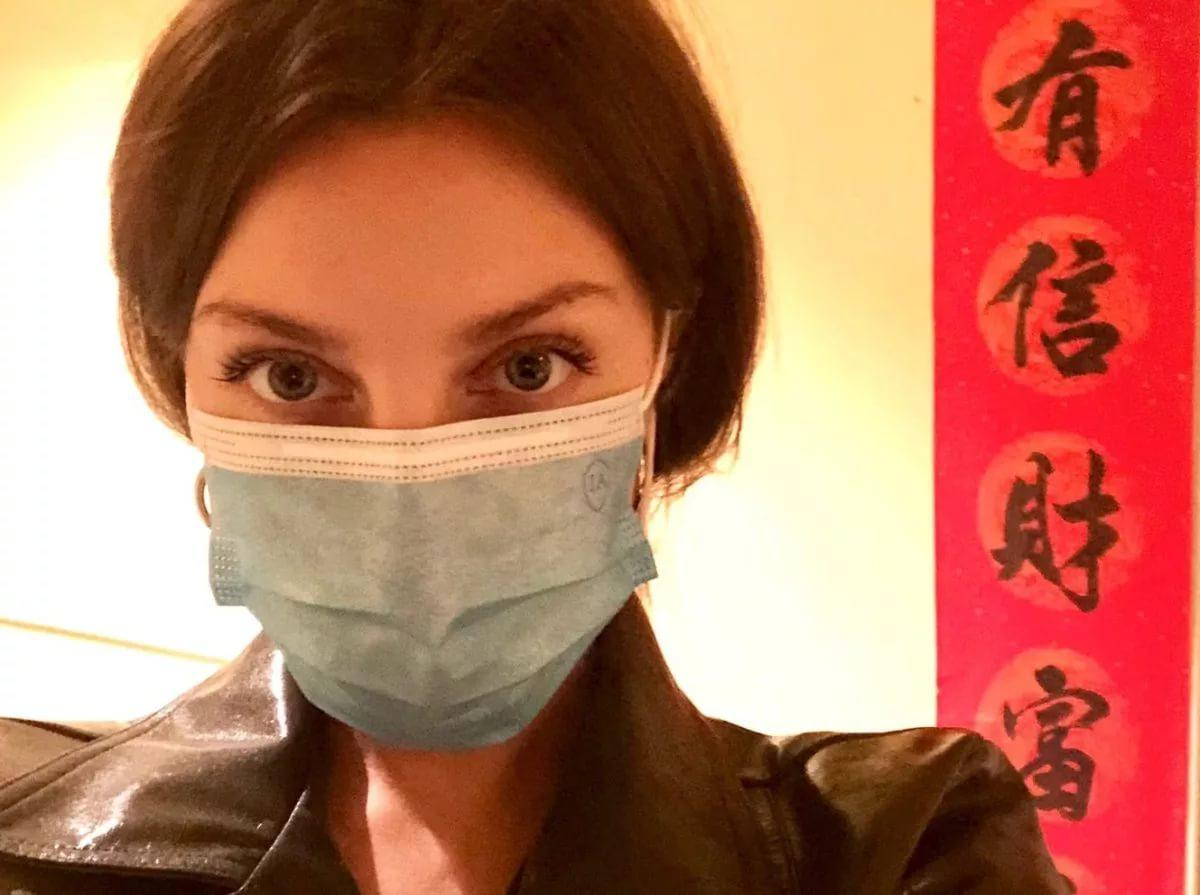mask: (189, 148, 690, 750)
